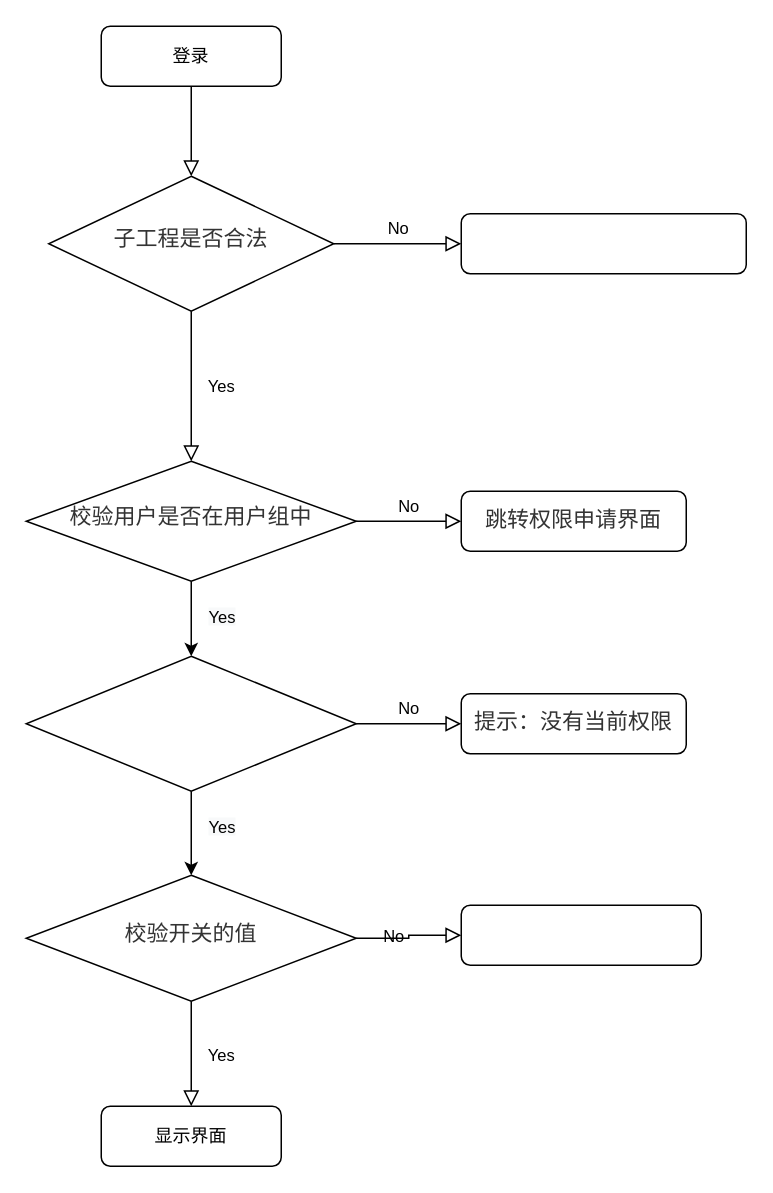
Some shapes in this 773 by 1193 pixel diagram are drawn without their labels. The shapes that lost their labels are listed below. From the top down, each one's centre as x and y in pixels, then its label:
pixel 603 243: 提示：检查子工程是否合法
pixel 190 723: 校验路由是否在用户组中
pixel 580 934: 控制对应的按钮、路由
